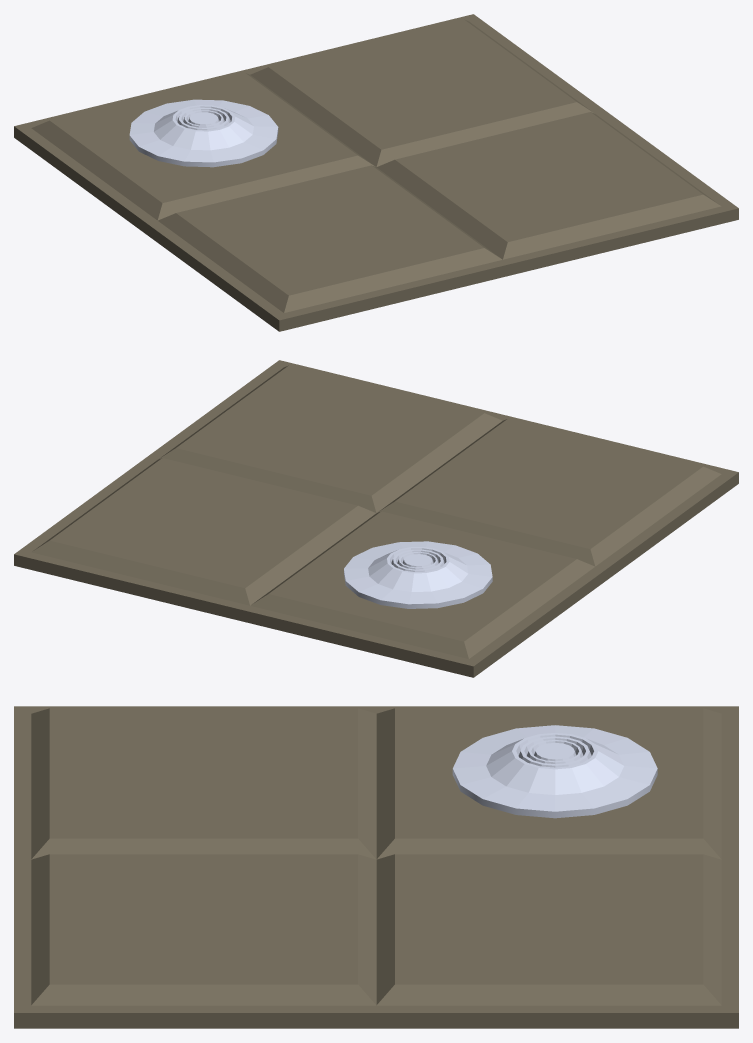
Rendered from SM_roof_tile_02.fbx.
3 views of the same model, one above another, from view 1: azimuth 30°, elevation 25°; view 2: azimuth 150°, elevation 25°; view 3: azimuth 270°, elevation 25° (orthographic). The views are drawn at different scales.
Visible parts, largest first — view 1: roof_tile_02; view 2: roof_tile_02; view 3: roof_tile_02.
Part boxes in pixels (x1,y1,x2,y2): roof_tile_02: (14, 14, 738, 331); roof_tile_02: (14, 360, 738, 677); roof_tile_02: (14, 706, 738, 1028).
Bounding box in the file's own units: 210 × 16.87 × 210.
